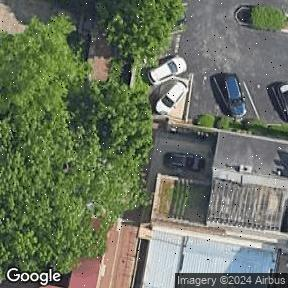vegetation: (0, 0, 185, 278), (250, 6, 287, 31)
